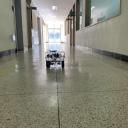cart: (45, 50, 65, 68)
